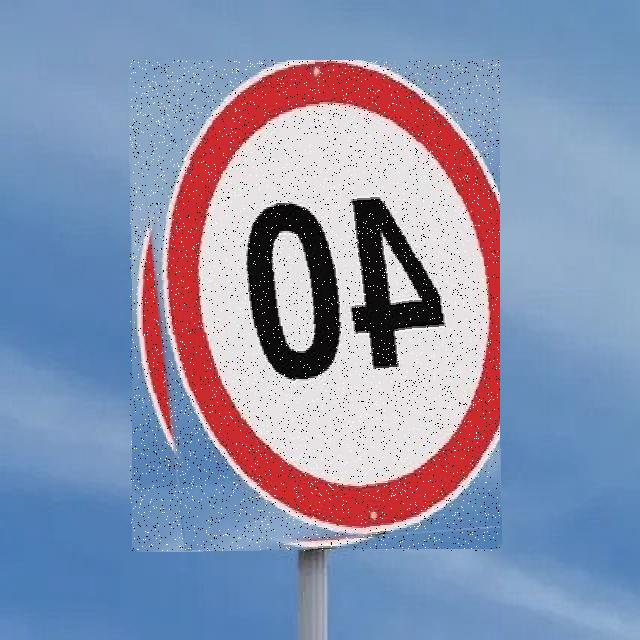speed limit 40: (130, 60, 500, 551)
